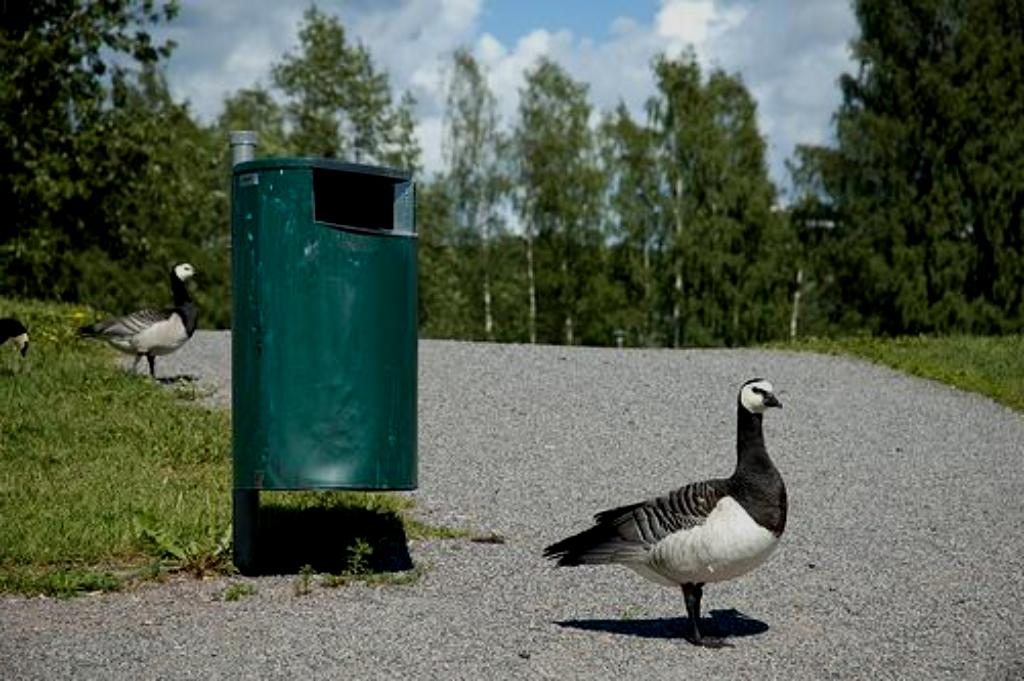dustbin: (212, 155, 423, 561)
